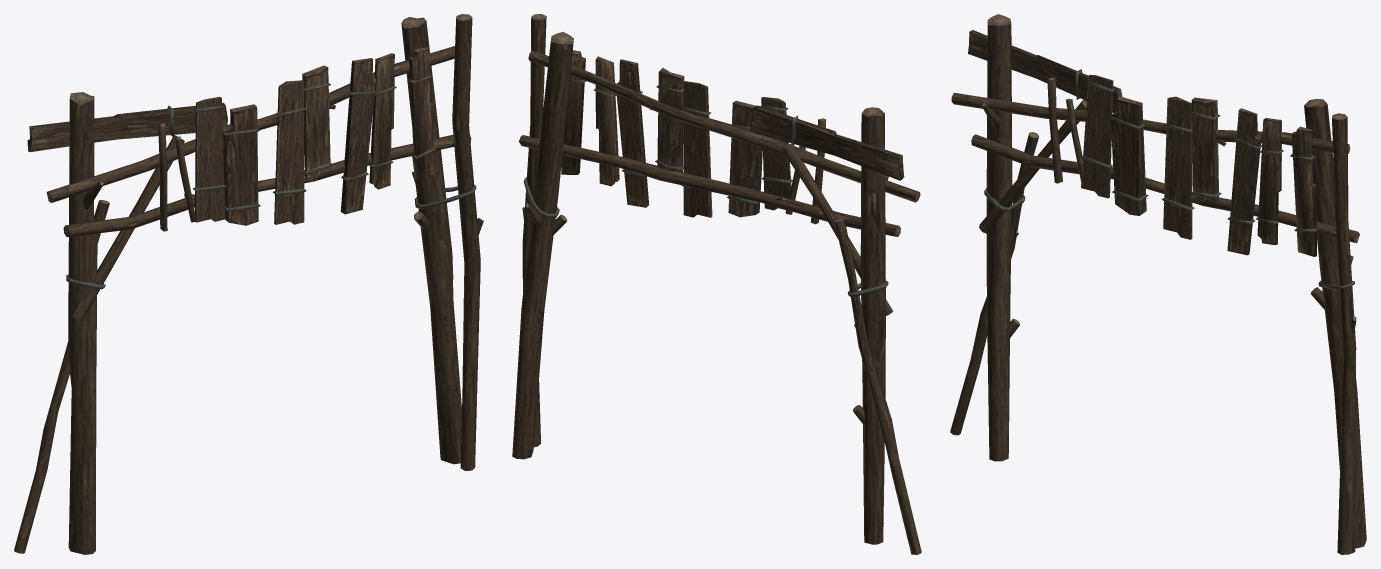
The model's file is mutou01.FBX.
3 renders of one model, left to right at view 1: azimuth 30°, elevation 25°; view 2: azimuth 150°, elevation 25°; view 3: azimuth 330°, elevation 25°, orthographic. The views are drawn at different scales.
Parts seen in each view (by area): view 1: polySurface1252; view 2: polySurface1252; view 3: polySurface1252.
Boxes of the visible parts, x1,y1,x2,y2 form: polySurface1252: (14,14,483,554); polySurface1252: (512,14,921,554); polySurface1252: (950,14,1366,554).
Size of the model in its own units: 57.16 by 55.6 by 8.19.
